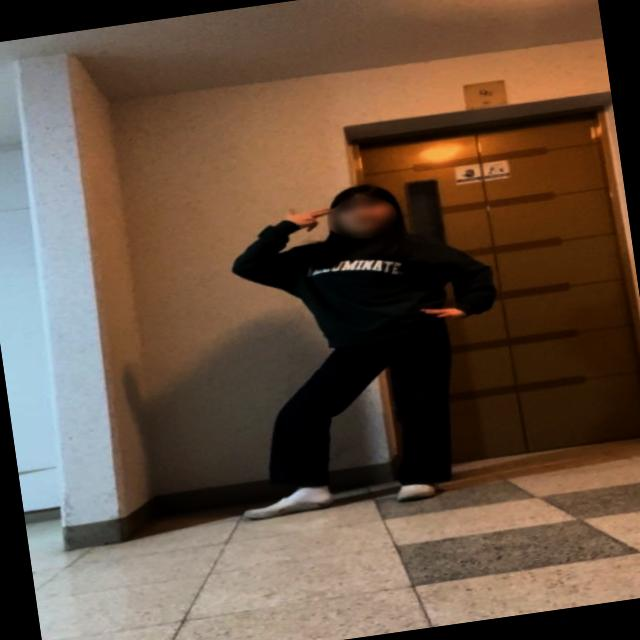hoodies: (232, 190, 502, 358)
slacks: (257, 325, 471, 509)
